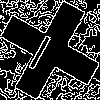I: (25, 25, 59, 72)
